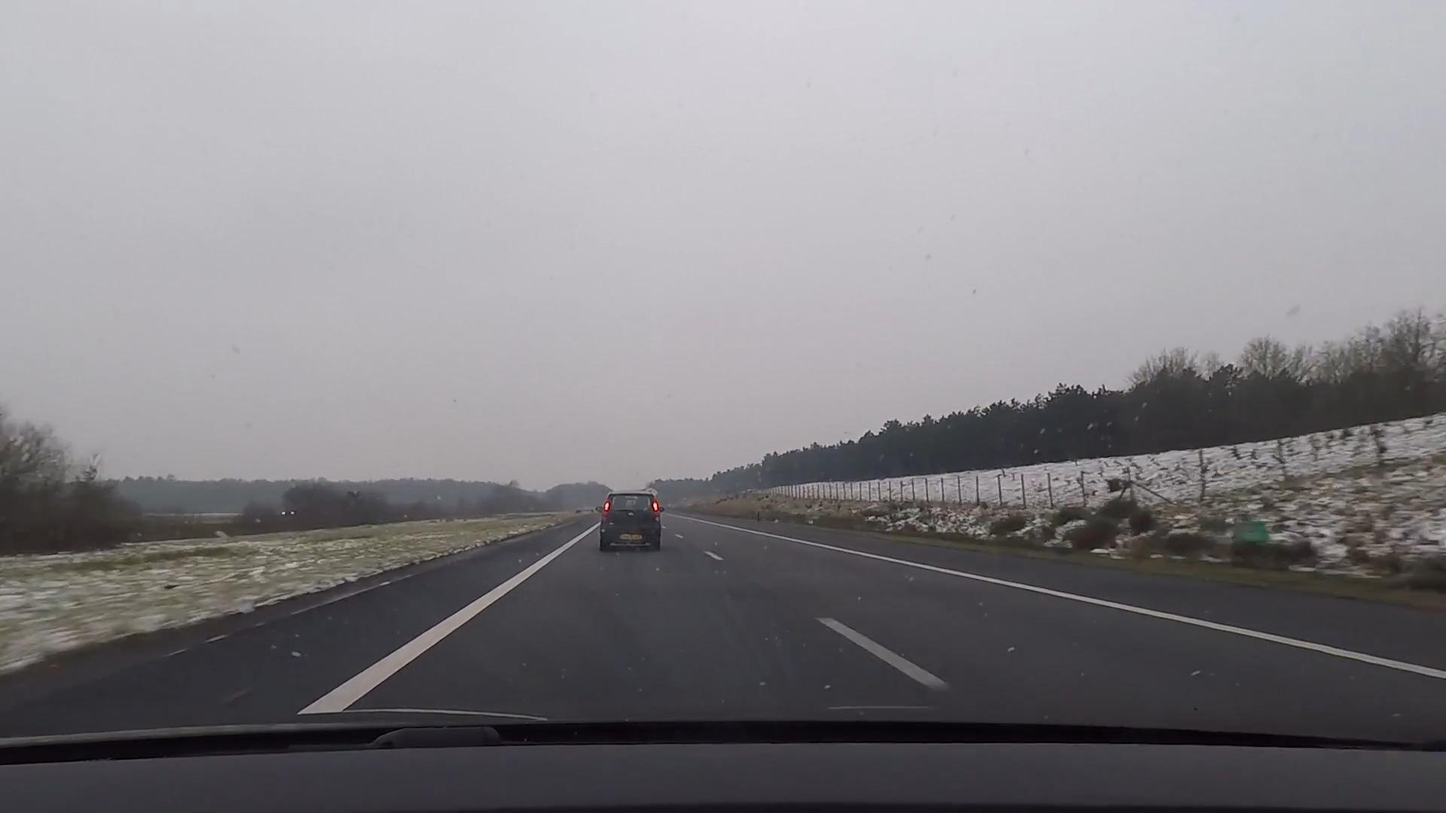Snow: (700, 413, 1446, 584), (0, 511, 583, 674)
dry: (0, 507, 1446, 737)
